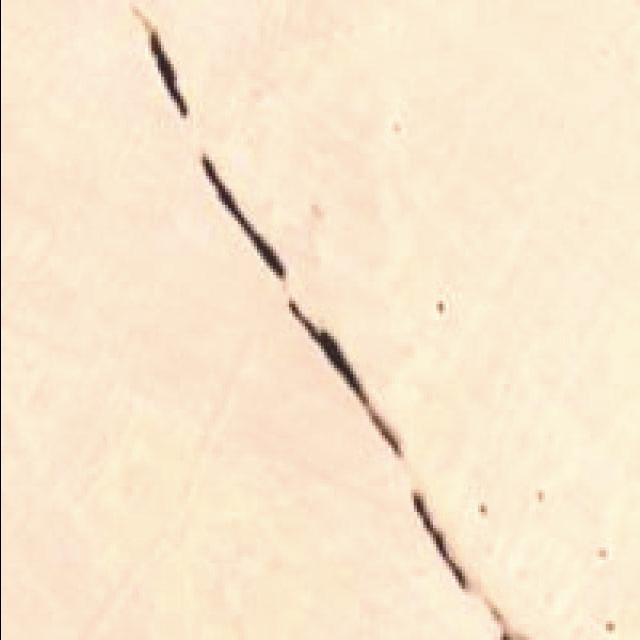SurfaceCrack: (108, 0, 558, 640)
